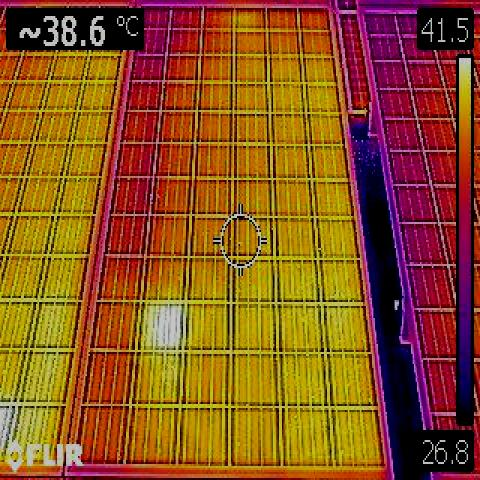fault: (146, 305, 182, 350)
